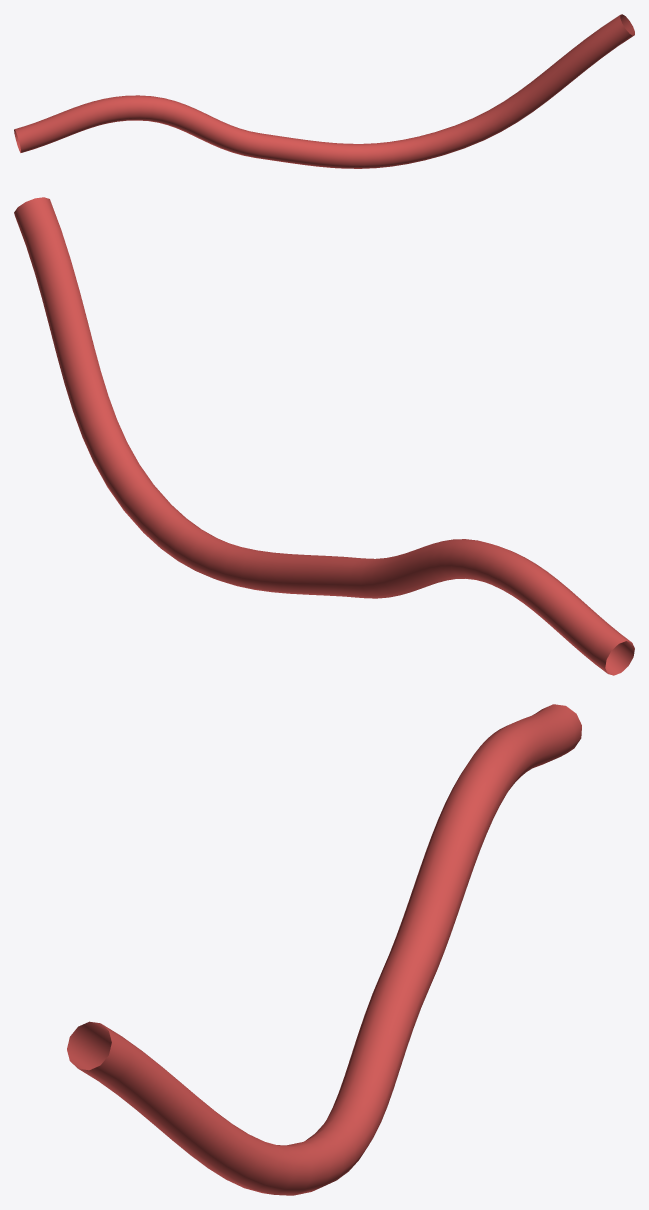
3 renders of one model, top to bottom at view 1: azimuth 30°, elevation 25°; view 2: azimuth 150°, elevation 25°; view 3: azimuth 270°, elevation 25°, orthographic. The views are drawn at different scales.
Visible parts, largest first — view 1: 左侧阴部外深动脉; view 2: 左侧阴部外深动脉; view 3: 左侧阴部外深动脉.
Boxes of the visible parts, box(x1,y1,x2,y2) form: 左侧阴部外深动脉: box(14, 14, 634, 168); 左侧阴部外深动脉: box(14, 197, 634, 675); 左侧阴部外深动脉: box(67, 704, 581, 1195).
Size of the model in its own units: 0.0473 by 0.0137 by 0.0209.
